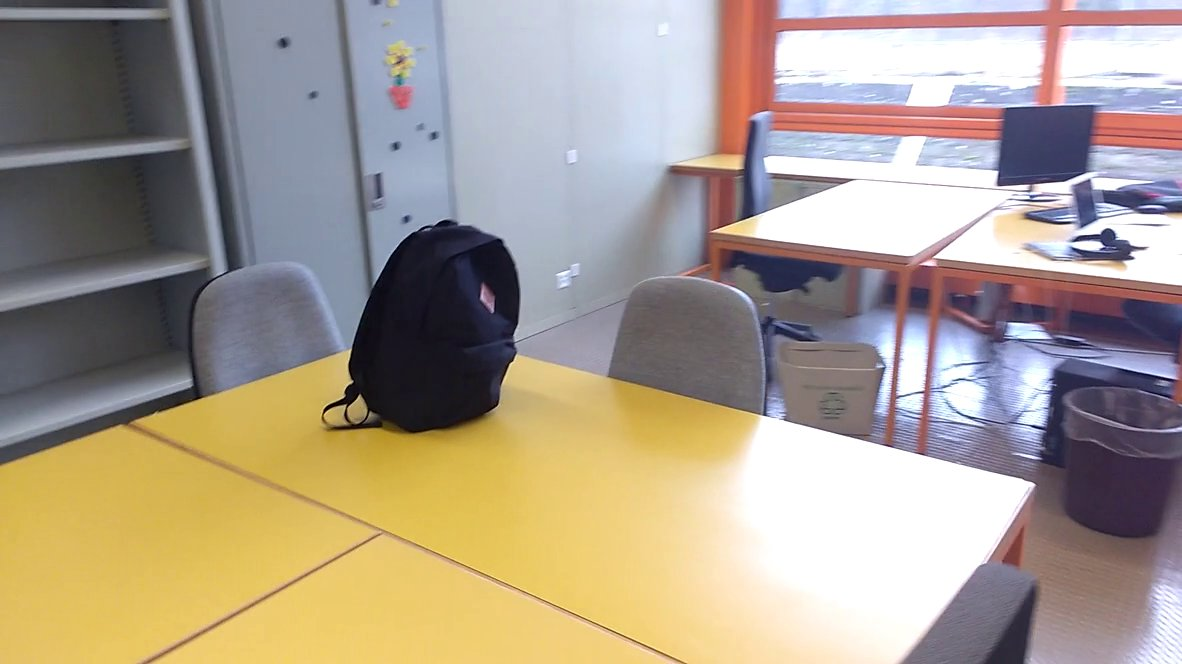bag: (319, 210, 525, 439)
bin: (1054, 374, 1182, 550)
box: (768, 337, 895, 442)
chair: (723, 98, 832, 399), (171, 227, 353, 406), (595, 261, 777, 434)
